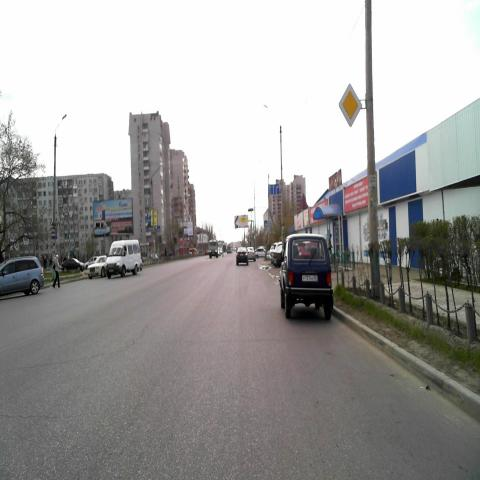2_1: (338, 87, 361, 128)
5_15_1: (268, 183, 279, 194)
